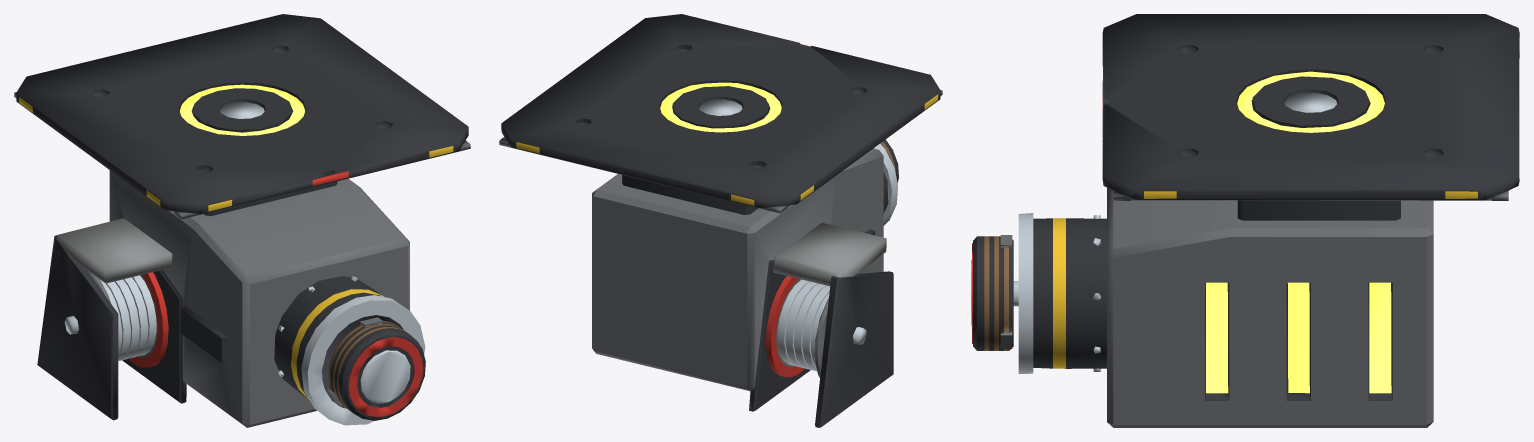
File: R4M_MagneticGrapple_LOD1.fbx
The picture shows the model from 3 angles, left to right: view 1: azimuth 30°, elevation 25°; view 2: azimuth 150°, elevation 25°; view 3: azimuth 270°, elevation 25°; orthographic projection. The views are drawn at different scales.
Visible parts, largest first — view 1: R4M_MagneticGrapple_Housing_LOD1, R4M_MagneticGrapple_Head_LOD1, R4M_MagneticGrapple_Spool_LOD1; view 2: R4M_MagneticGrapple_Housing_LOD1, R4M_MagneticGrapple_Spool_LOD1; view 3: R4M_MagneticGrapple_Housing_LOD1, R4M_MagneticGrapple_Head_LOD1.
Part boxes in pixels (bbox=[...]): R4M_MagneticGrapple_Housing_LOD1: bbox=[14, 14, 470, 427]; R4M_MagneticGrapple_Head_LOD1: bbox=[327, 317, 425, 420]; R4M_MagneticGrapple_Spool_LOD1: bbox=[64, 270, 168, 367]; R4M_MagneticGrapple_Housing_LOD1: bbox=[499, 14, 942, 427]; R4M_MagneticGrapple_Spool_LOD1: bbox=[765, 276, 866, 377]; R4M_MagneticGrapple_Housing_LOD1: bbox=[1018, 14, 1519, 427]; R4M_MagneticGrapple_Head_LOD1: bbox=[971, 235, 1018, 350].
Size of the model in its own units: 0.5214 by 0.4091 by 0.6714.
